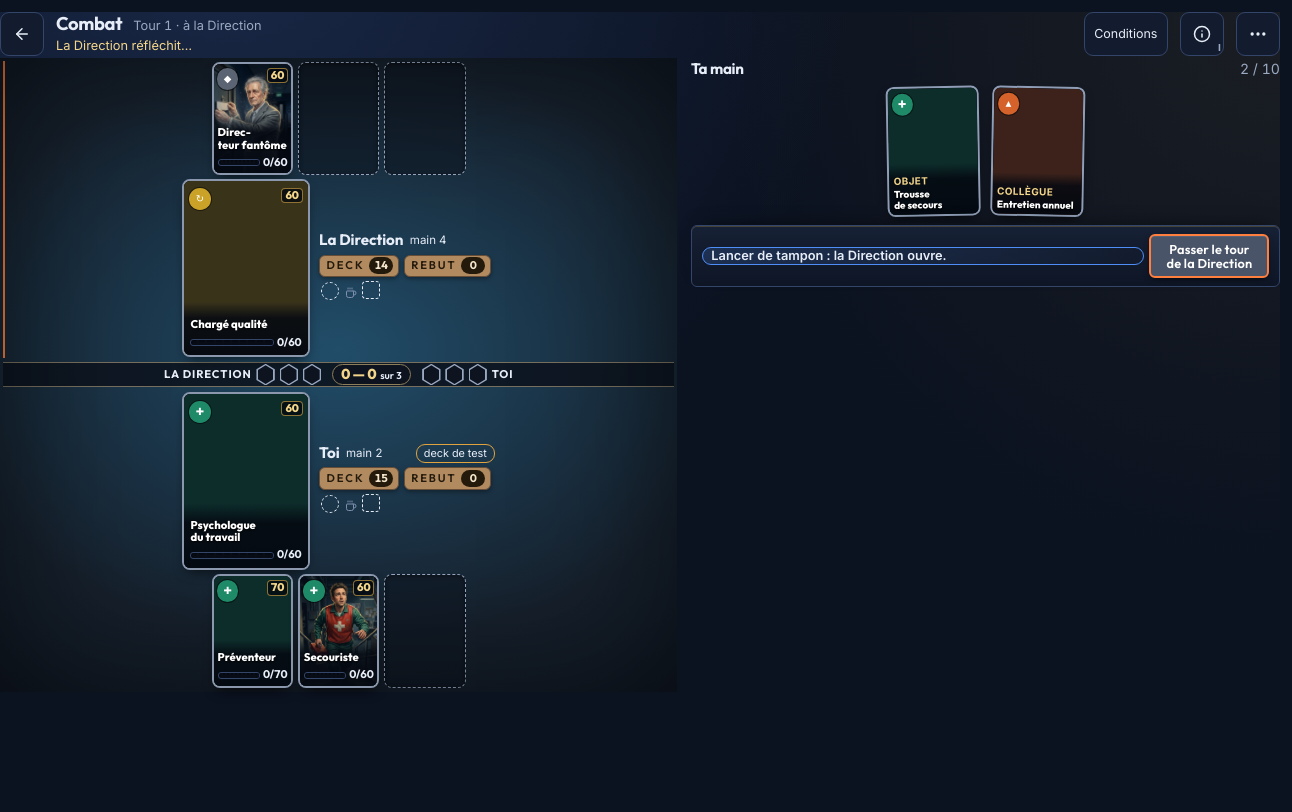
Test case: Battle — écran de combat › Échap ferme le menu et rend le focus au bouton `⋯`
The image size is (1292, 812).
Click the button named "Menu du combat" at (1258, 34), box [1236,12,1280,56]
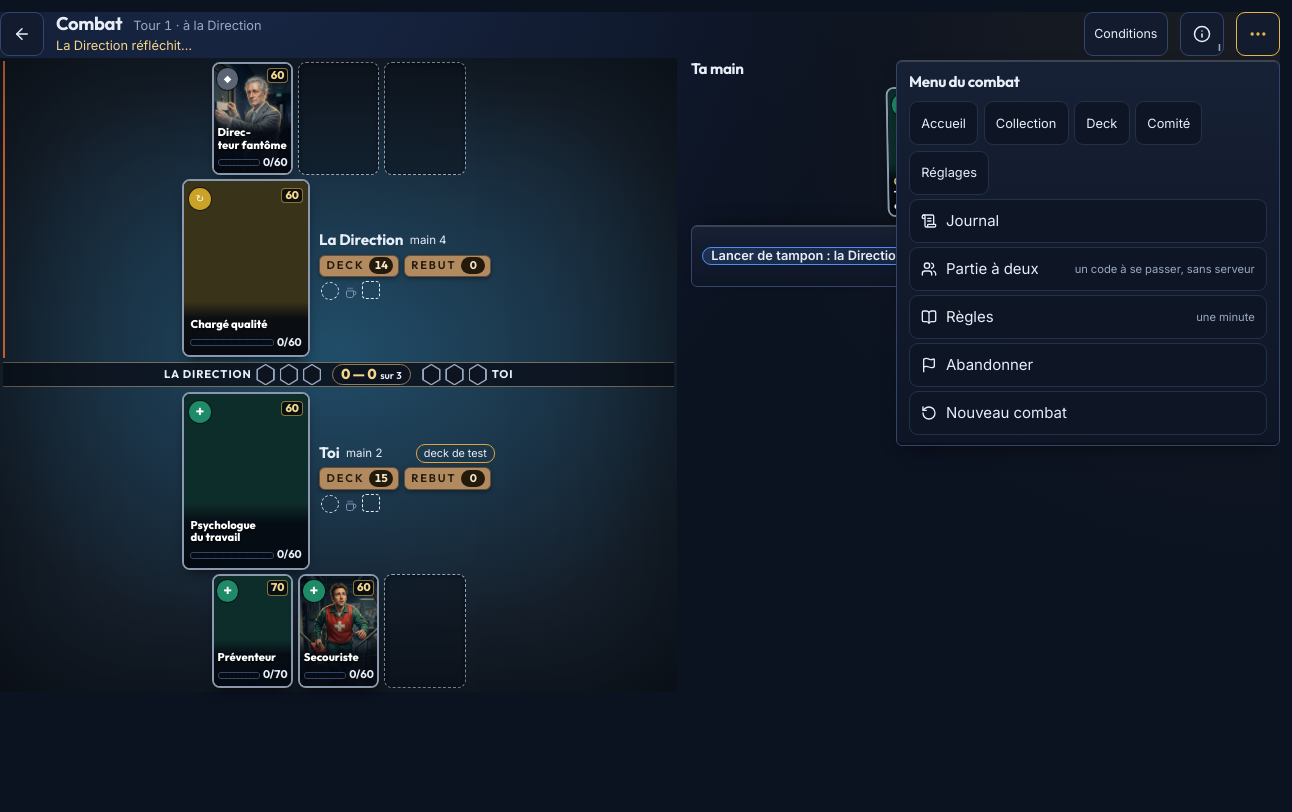
Click the button "Journal" at (973, 220), box [909,199,1267,243]
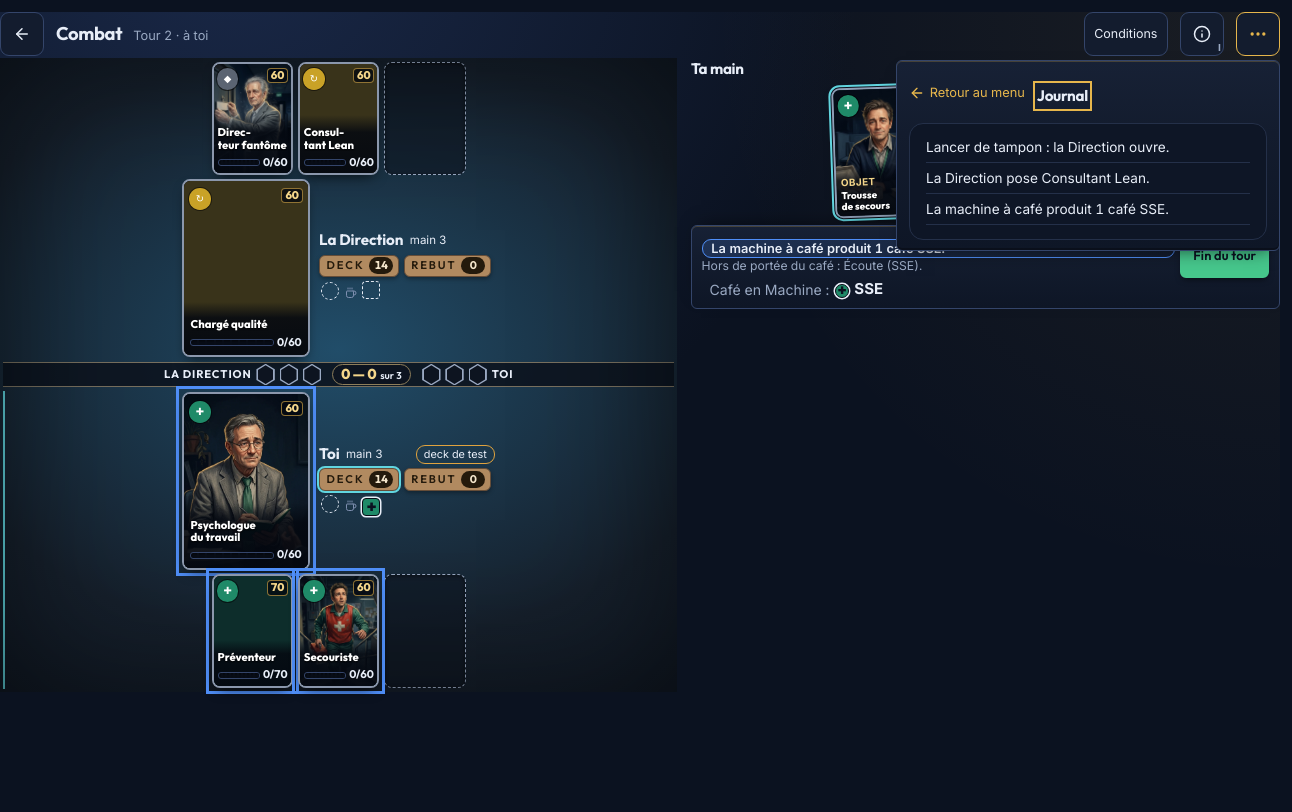
Expected: the button named "Menu du combat" is expanded, [1236,12,1280,56]
Press Escape
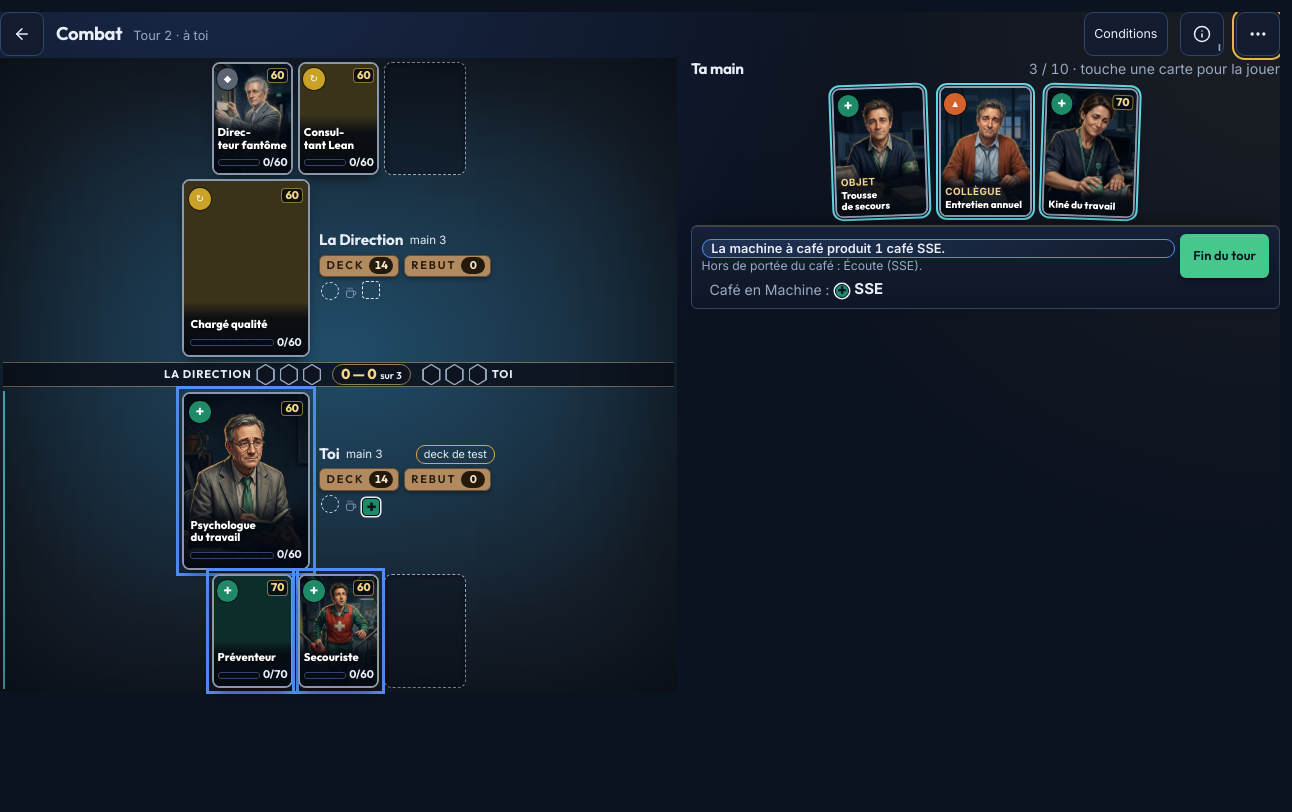
Expected: the heading "Menu du combat" is not shown
Expected: the button named "Menu du combat" is collapsed, [1236,12,1280,56]
